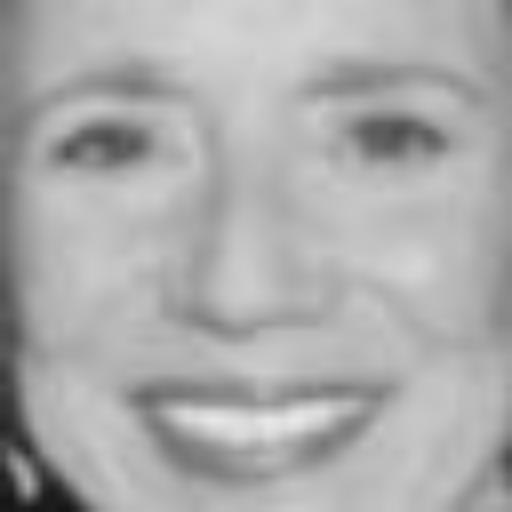left_lip_corner: (345, 370, 416, 429)
right_lip_corner: (112, 369, 194, 441)
